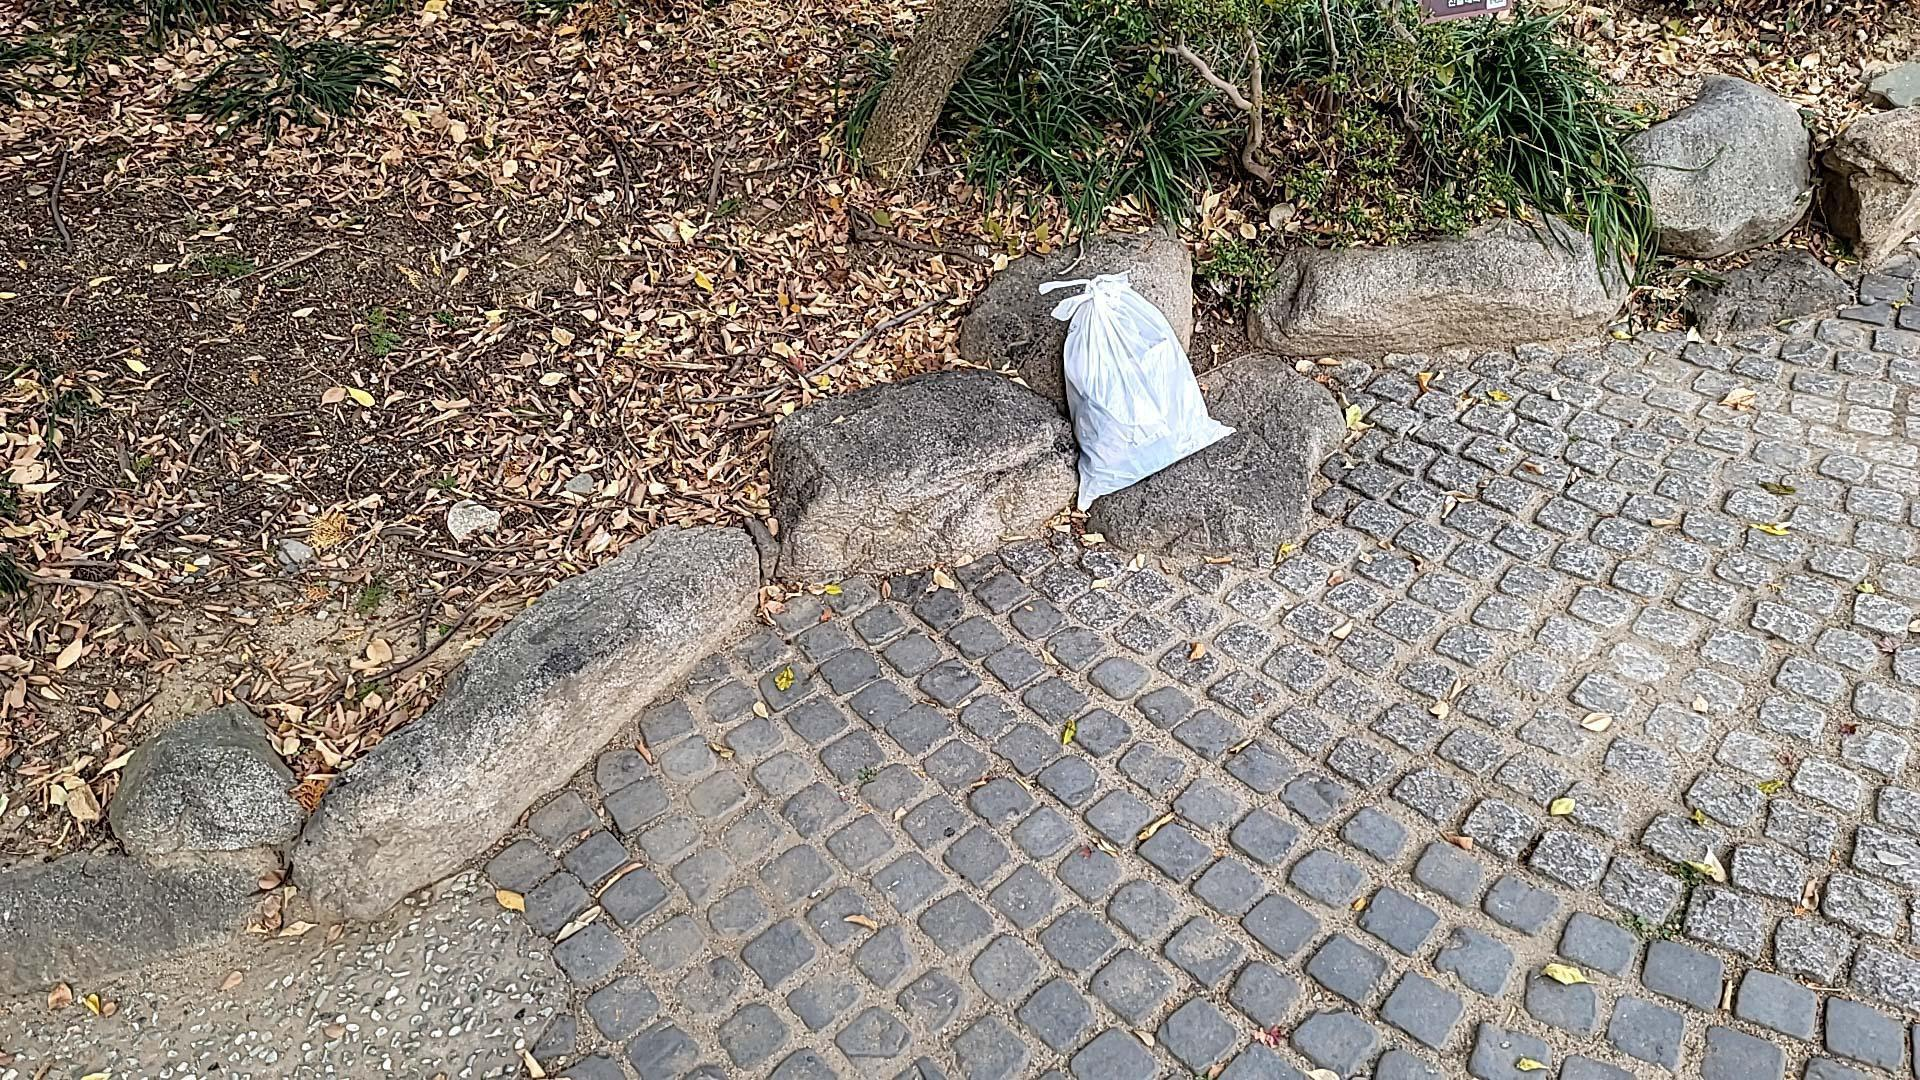white_bag: (1034, 265, 1244, 516)
